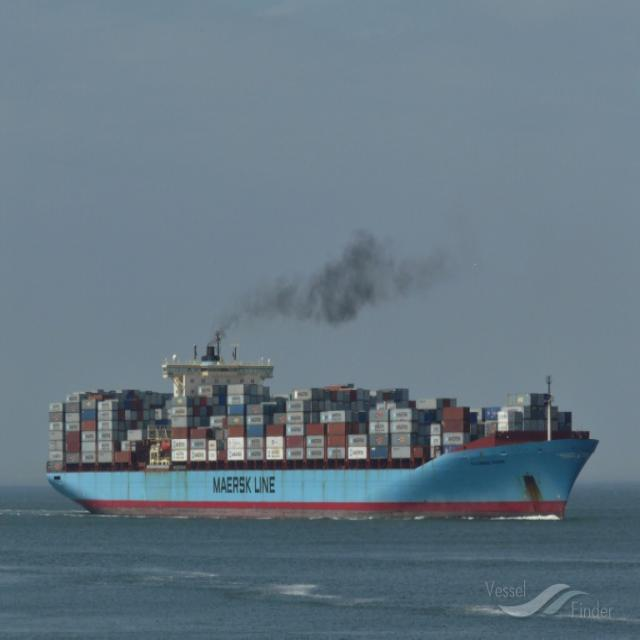Container Ship: (48, 332, 599, 520)
